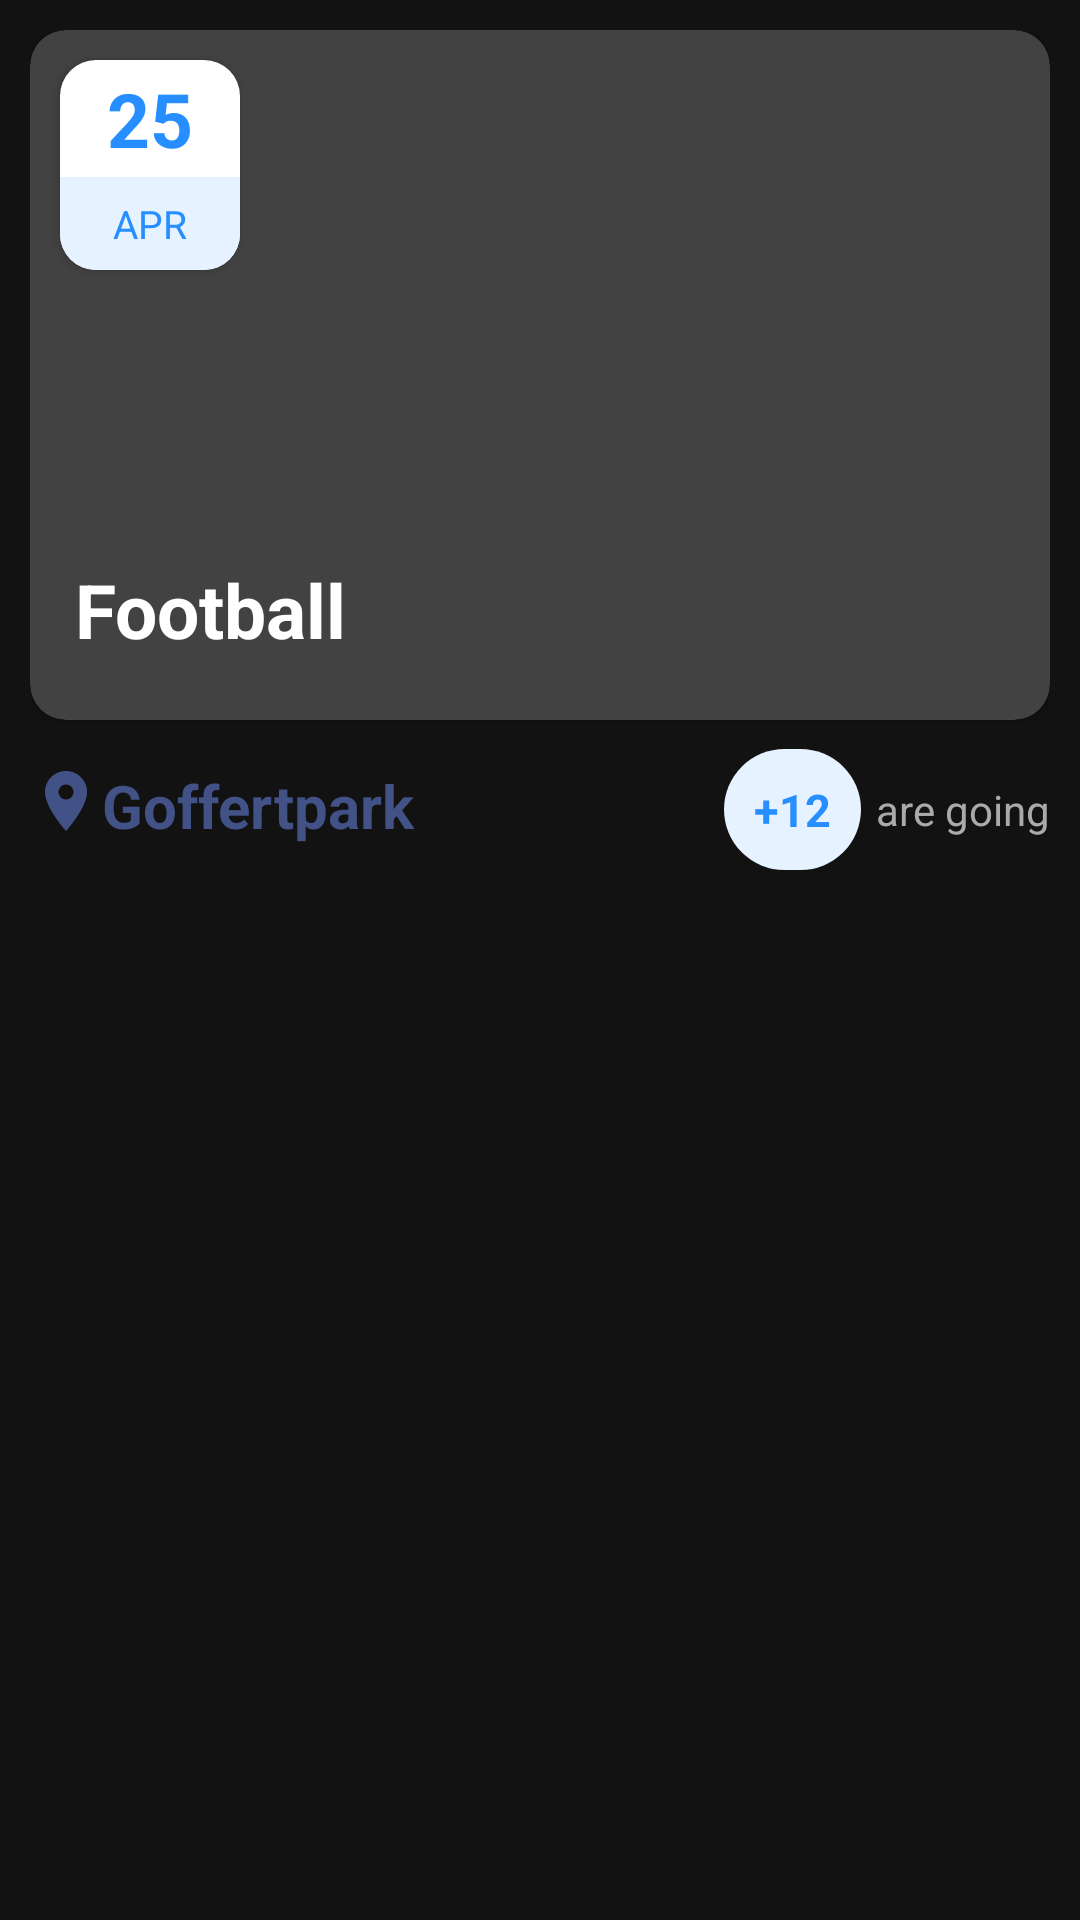

Where icons sit on this 1080px×1920px app screen, as Rect(x1, y1, x2, y2):
location on: Rect(45, 771, 87, 831)
